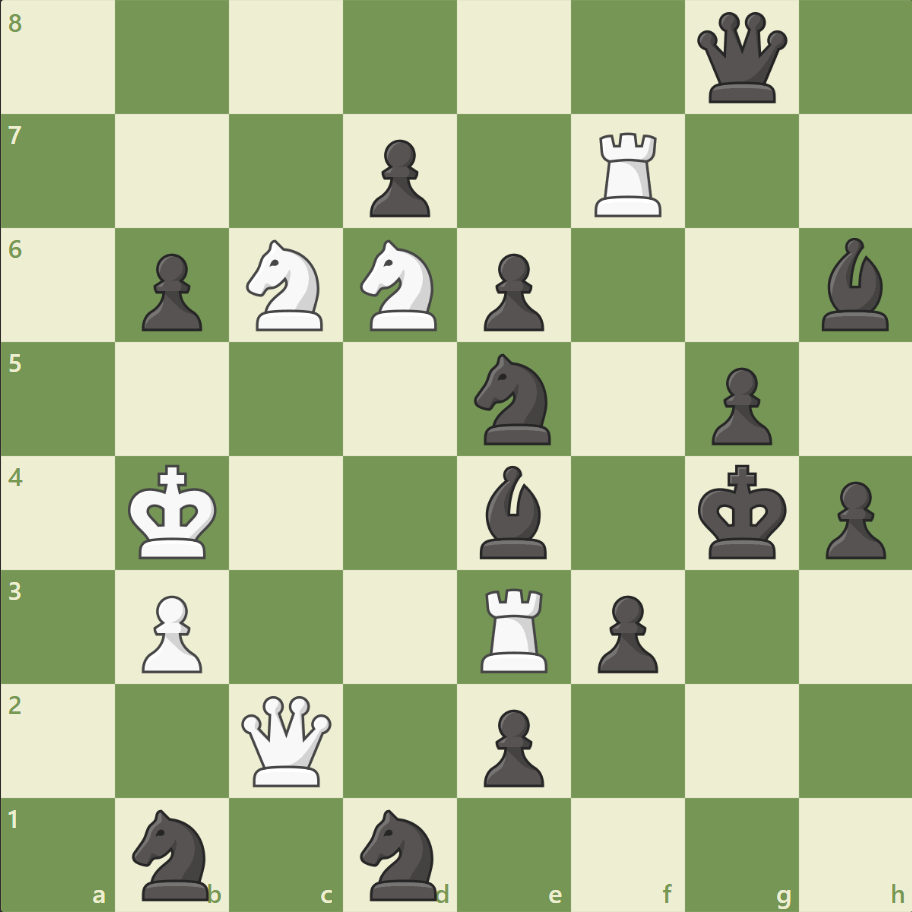K: (124, 458, 224, 566)
N: (351, 234, 449, 337), (238, 234, 335, 337)
P: (133, 586, 208, 677)
Q: (237, 690, 336, 789)
R: (587, 125, 670, 222), (473, 579, 556, 676)
b: (812, 233, 896, 336), (471, 460, 555, 563)
k: (692, 458, 792, 566)
n: (124, 802, 222, 904), (351, 802, 449, 904), (465, 348, 562, 450)
p: (133, 246, 208, 337), (474, 246, 549, 337), (701, 359, 776, 450), (474, 700, 549, 791), (361, 132, 435, 223), (815, 473, 889, 564), (588, 586, 662, 677)
q: (691, 9, 790, 108)
